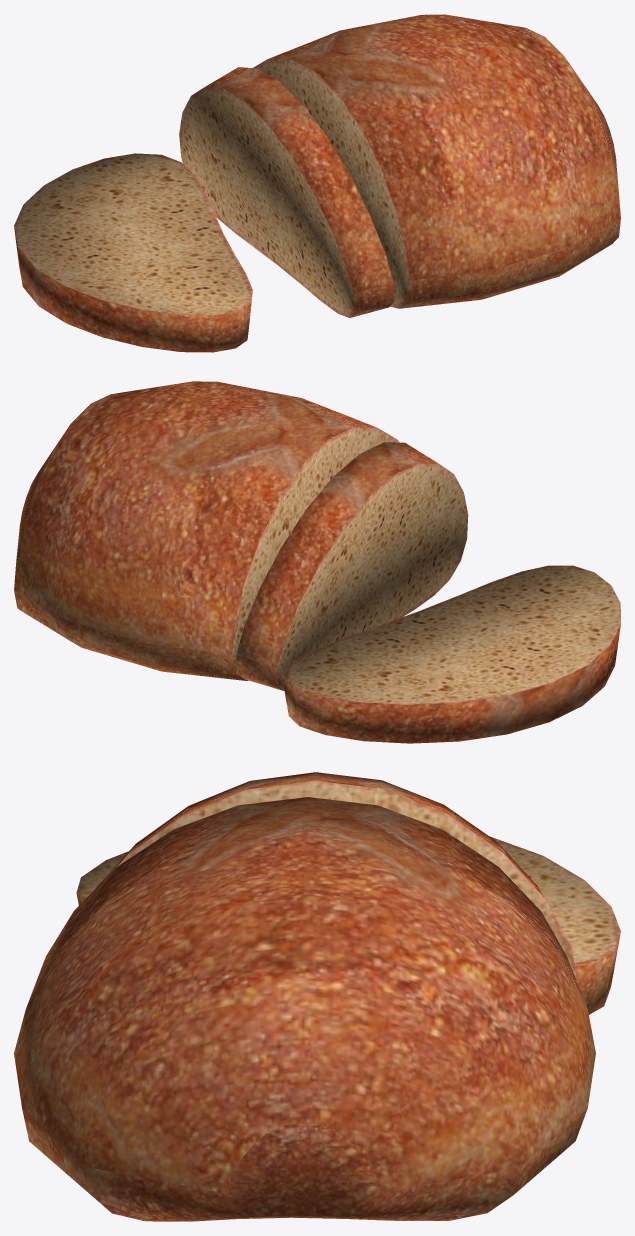
Rendered from pan.glb.
3 views of the same model, one above another, from view 1: azimuth 30°, elevation 25°; view 2: azimuth 150°, elevation 25°; view 3: azimuth 270°, elevation 25° (orthographic). The views are drawn at different scales.
Parts seen in each view (by area): view 1: bread; view 2: bread; view 3: bread.
Boxes of the visible parts, x1,y1,x2,y2 form: bread: (14,14,620,352); bread: (14,381,620,743); bread: (14,772,620,1221).
Size of the model in its own units: 2.86 by 1 by 1.94.
Materials: 1 (1 with a texture image).
